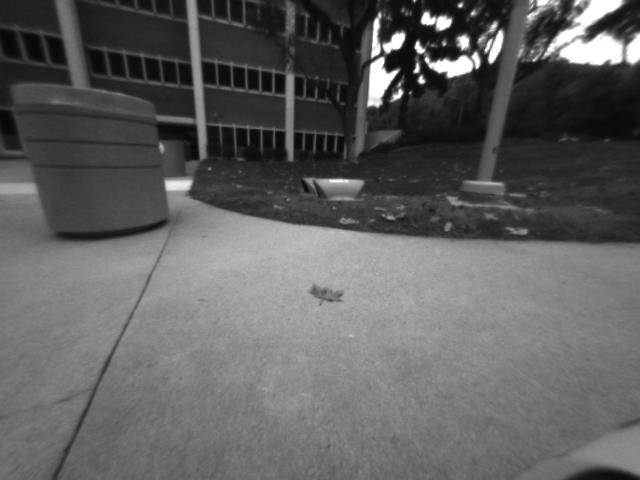trashcan: (7, 79, 181, 245)
